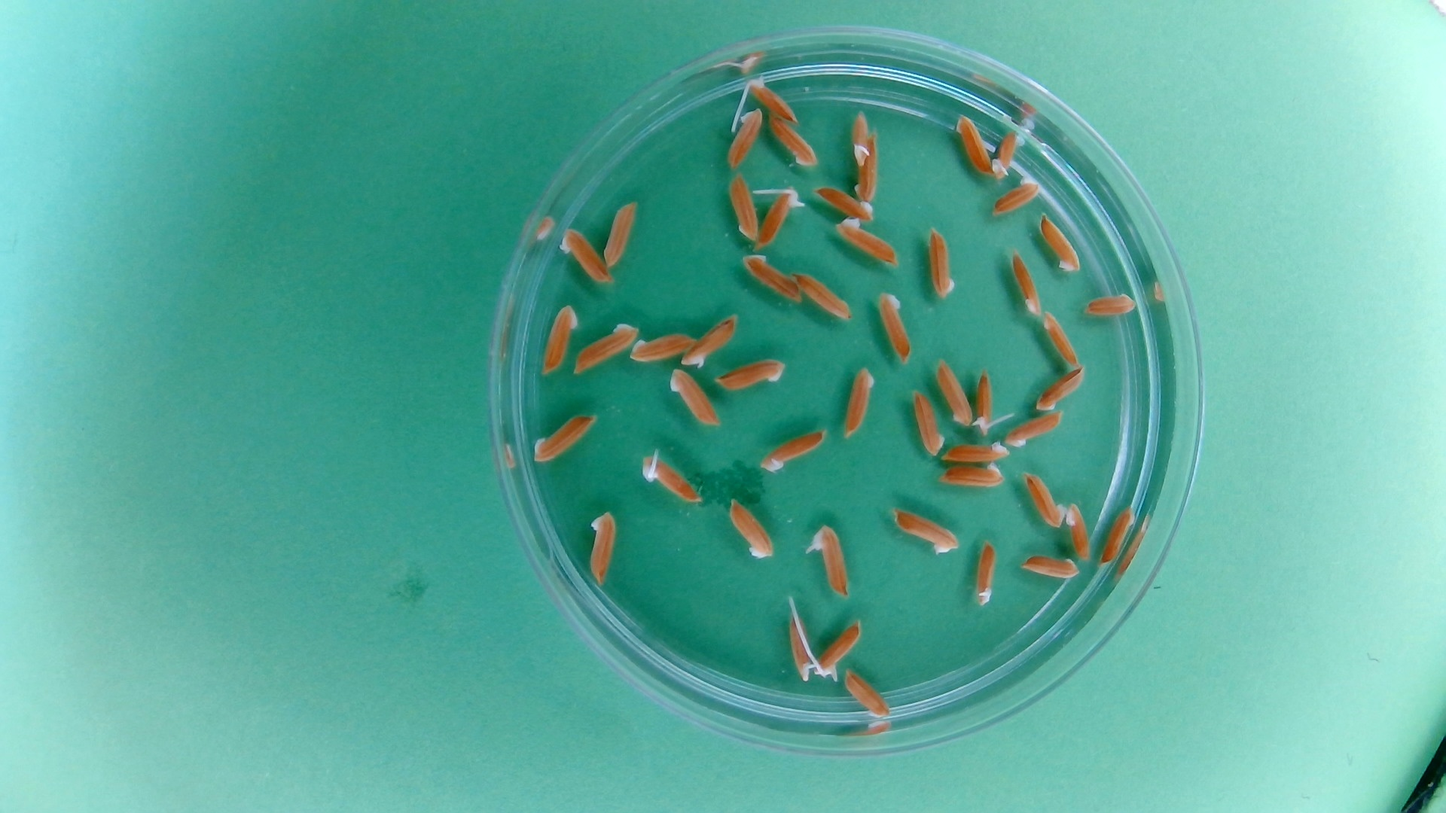no: (572, 319, 640, 377), (531, 411, 598, 467), (832, 215, 900, 268), (680, 311, 740, 370), (557, 224, 613, 287), (740, 251, 804, 306), (890, 506, 959, 557), (667, 367, 721, 429), (792, 269, 853, 323), (726, 496, 775, 562), (767, 114, 822, 172), (538, 302, 580, 377), (758, 428, 826, 474), (874, 288, 914, 366), (599, 198, 639, 271), (585, 507, 621, 588), (952, 111, 994, 180), (1037, 210, 1082, 274), (841, 666, 893, 721), (712, 356, 789, 393), (841, 363, 878, 440), (1021, 470, 1066, 531), (934, 355, 972, 427), (1033, 365, 1087, 415), (812, 183, 877, 224), (1007, 246, 1044, 318), (926, 225, 961, 301), (1042, 309, 1084, 372), (908, 387, 945, 458), (724, 105, 763, 171), (627, 330, 697, 365), (1004, 410, 1066, 449), (728, 172, 761, 245), (1100, 503, 1137, 567), (990, 175, 1041, 218), (853, 133, 882, 205), (937, 461, 1008, 490), (940, 439, 1011, 466), (990, 127, 1023, 182), (1081, 288, 1139, 319), (1017, 552, 1081, 580), (1065, 501, 1093, 562), (974, 540, 996, 610)
yes: (811, 617, 864, 679), (642, 454, 702, 505), (756, 186, 800, 250), (812, 525, 850, 598), (743, 75, 800, 122), (786, 613, 816, 682), (972, 368, 997, 434), (850, 108, 876, 169)
